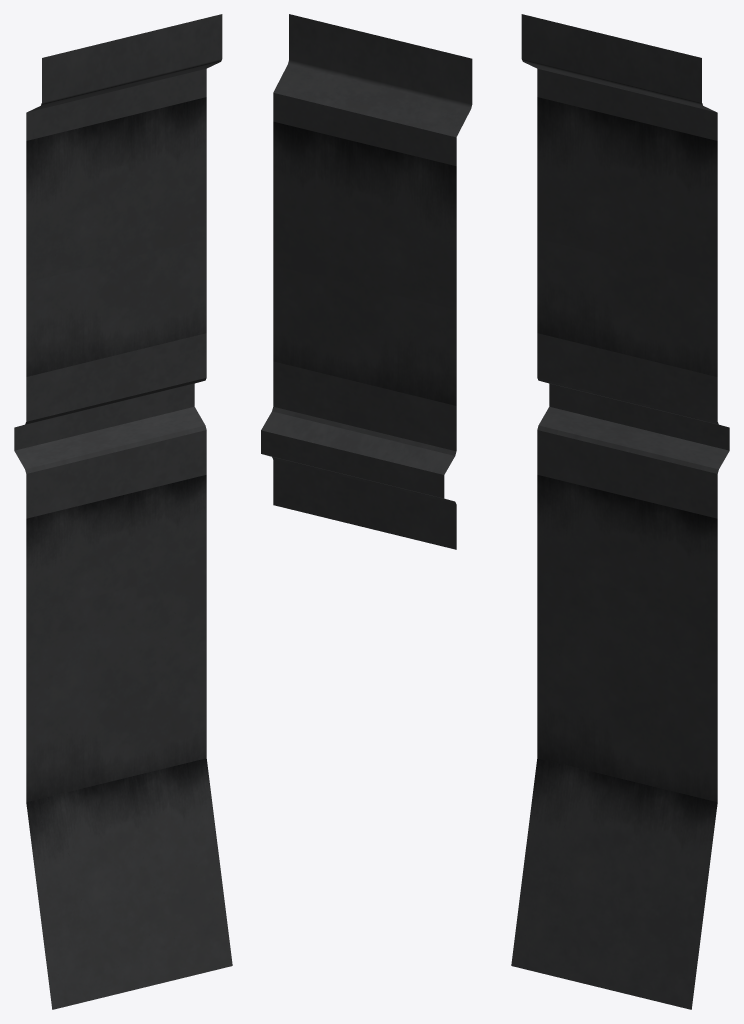
Rendered from M_Wall_Straight_2x10_v4.fbx.
3 views of the same model, side by side, from view 1: azimuth 30°, elevation 25°; view 2: azimuth 150°, elevation 25°; view 3: azimuth 330°, elevation 25° (orthographic).
Parts seen in each view (by area): view 1: Wall_Straight_2x10_v4; view 2: Wall_Straight_2x10_v4; view 3: Wall_Straight_2x10_v4.
Part boxes in pixels (left/top/right/bottom): Wall_Straight_2x10_v4: left=14, top=14, right=232, bottom=1009; Wall_Straight_2x10_v4: left=261, top=14, right=472, bottom=549; Wall_Straight_2x10_v4: left=511, top=14, right=729, bottom=1009.
Size of the model in its own units: 200 by 1000 by 73.02.
